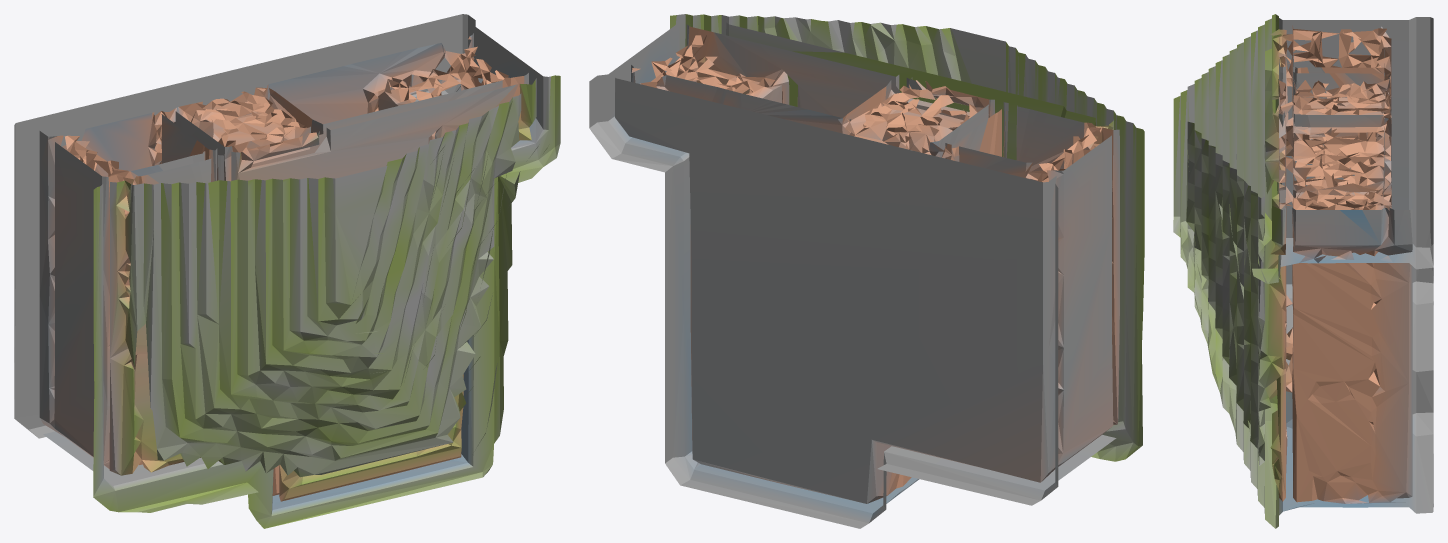
Rendered from 08018_optimized_cutaway.glb.
3 renders of one model, left to right at view 1: azimuth 30°, elevation 25°; view 2: azimuth 150°, elevation 25°; view 3: azimuth 270°, elevation 25°, orthographic. The views are drawn at different scales.
Parts seen in each view (by area): view 1: world; view 2: world; view 3: world.
Boxes of the visible parts, x1=… form: world: x1=14, y1=14, x2=560, y2=528; world: x1=589, y1=14, x2=1144, y2=528; world: x1=1173, y1=14, x2=1433, y2=528.
Bounding box in the file's own units: 68.99 × 54 × 37.05.
